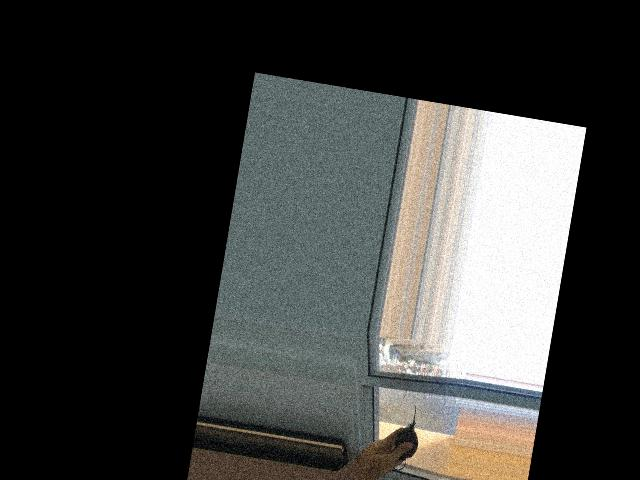beet: (384, 400, 424, 472)
